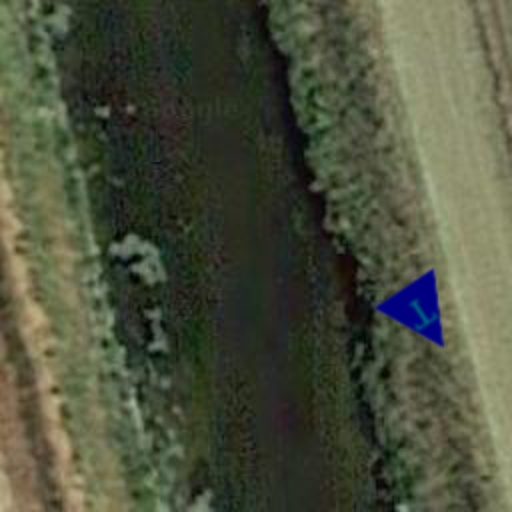triangle: (372, 266, 476, 370)
